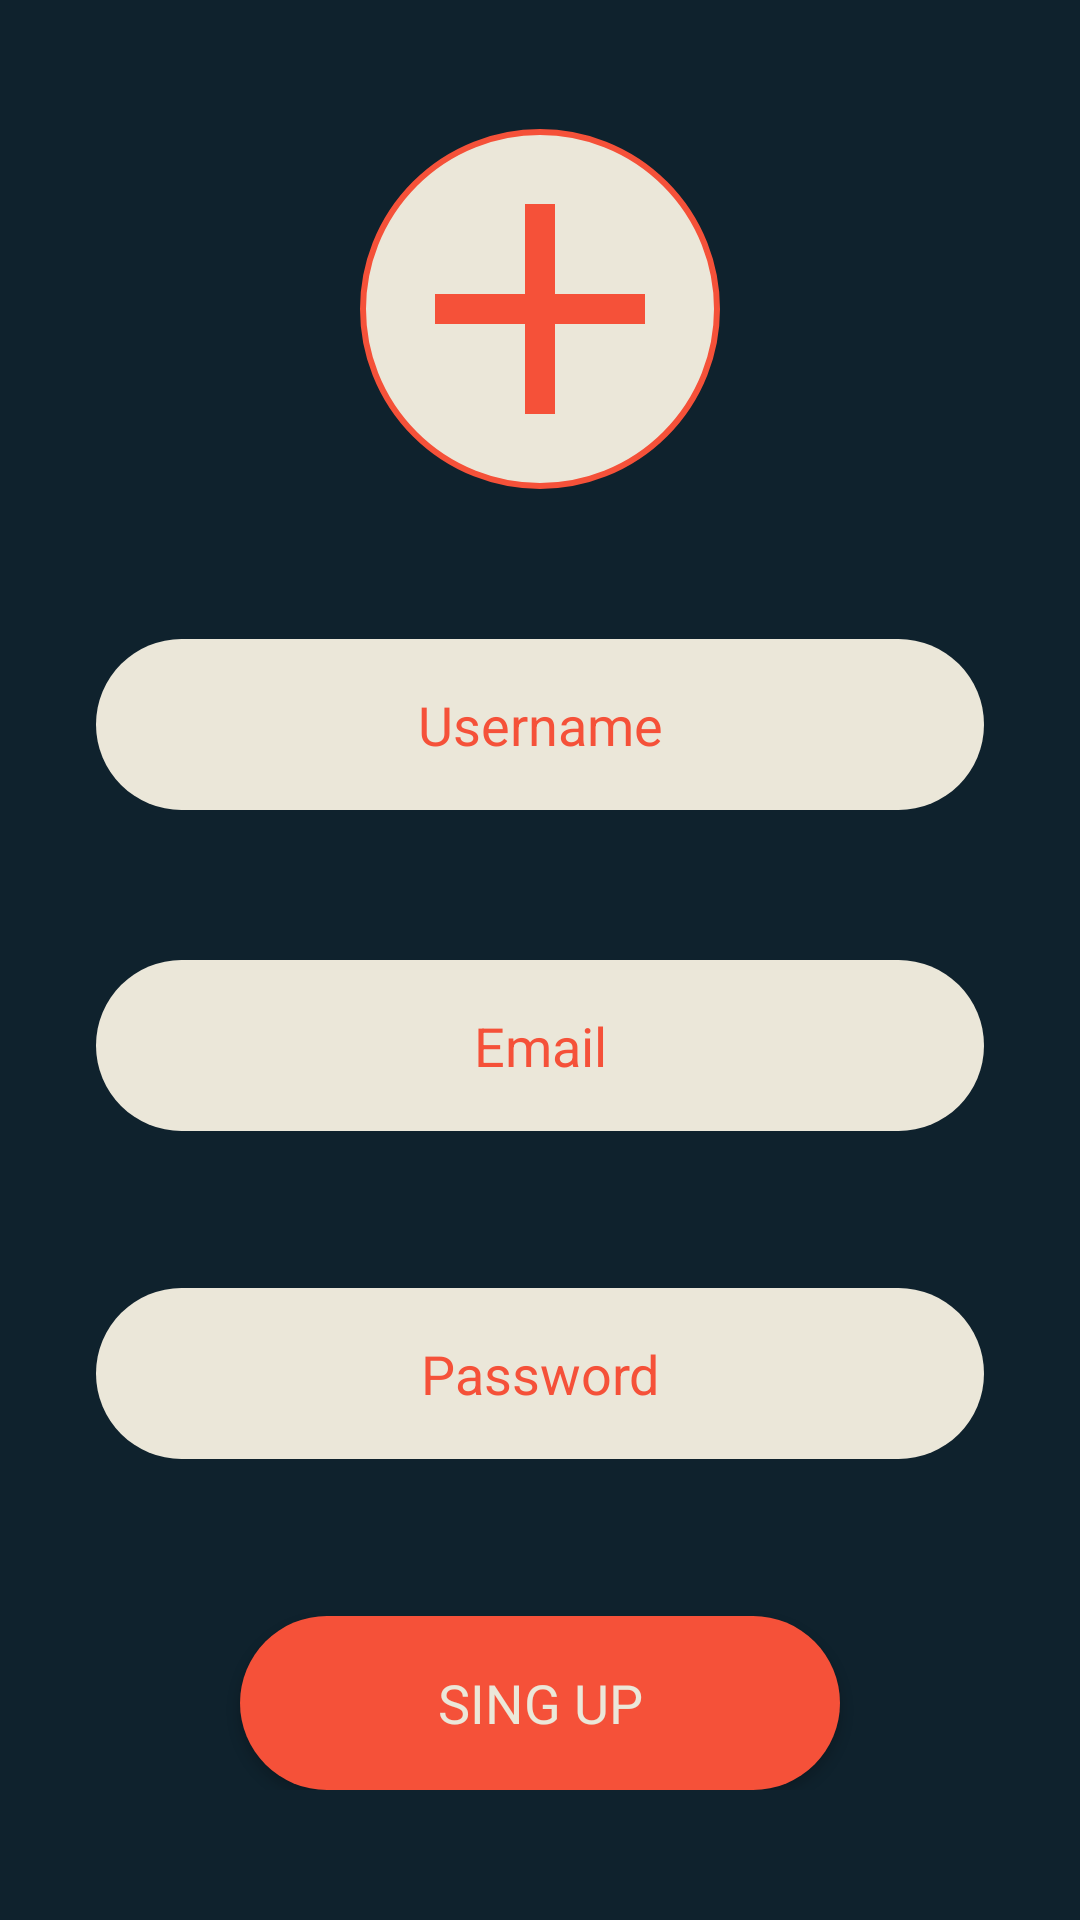

Screen size 1080*1920. Icon name, then its box in pixels as BBox(x1, y1, x2, y2):
add: BBox(360, 129, 720, 489)
